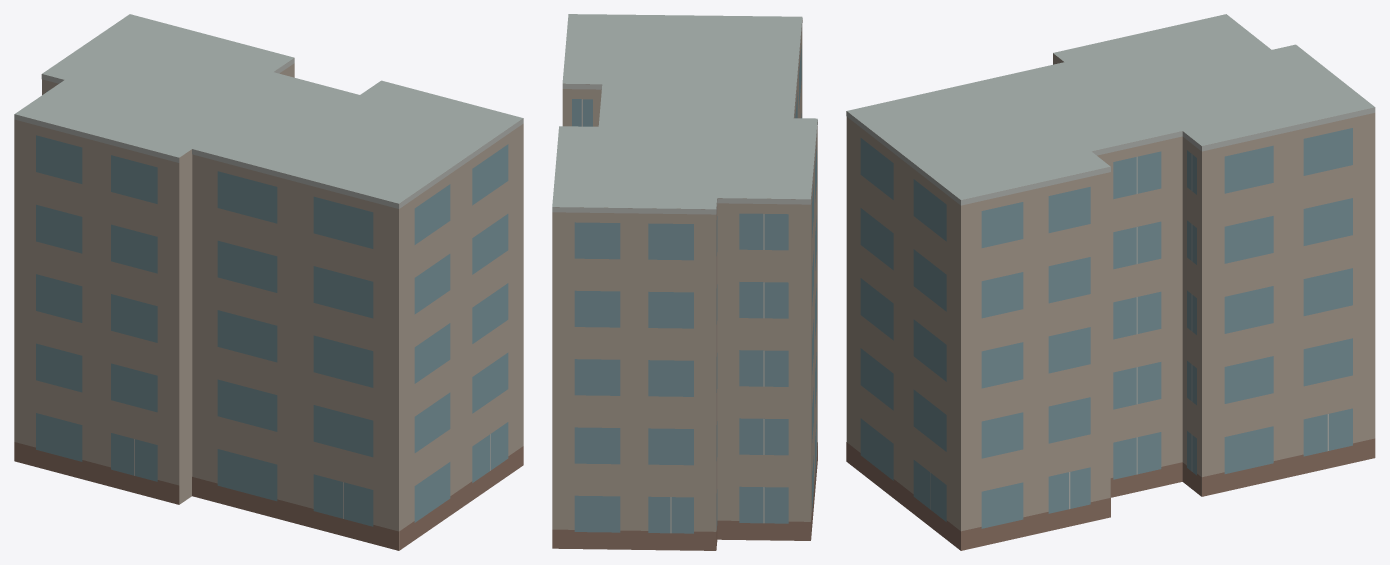
The model's file is survey-upis-32660523.glb.
3 views of the same model, side by side, from view 1: azimuth 30°, elevation 25°; view 2: azimuth 150°, elevation 25°; view 3: azimuth 270°, elevation 25° (orthographic). The views are drawn at different scales.
Parts seen in each view (by area): view 1: survey-upis-32660523.tmp; view 2: survey-upis-32660523.tmp; view 3: survey-upis-32660523.tmp.
Part boxes in pixels (left/top/right/bottom): survey-upis-32660523.tmp: left=14, top=14, right=523, bottom=550; survey-upis-32660523.tmp: left=552, top=14, right=817, bottom=550; survey-upis-32660523.tmp: left=846, top=14, right=1375, bottom=550.
Size of the model in its own units: 18 by 15.8 by 21.6.
